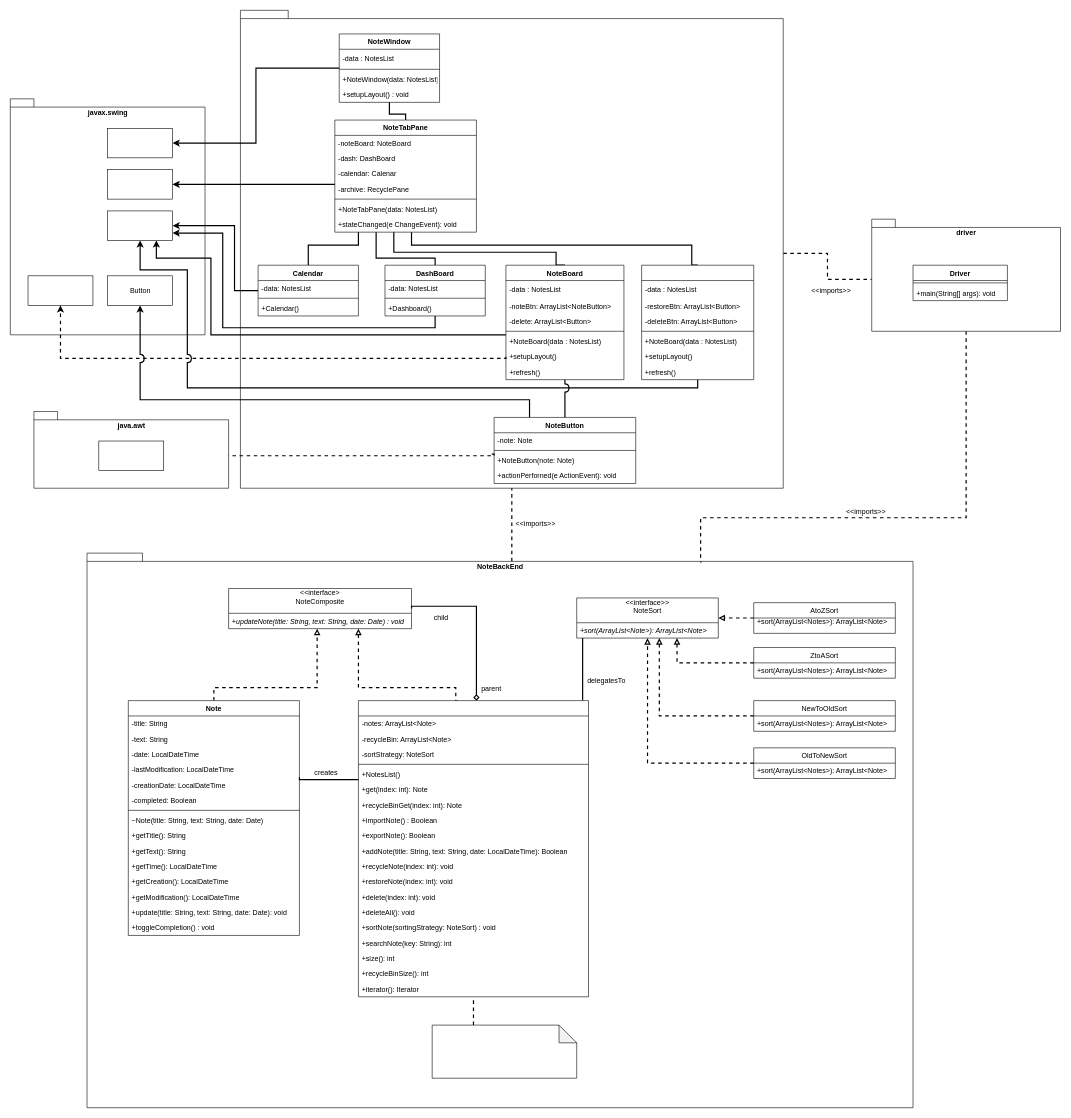
Some shapes in this 1071 by 1118 pixel diagram are drawn without their labels. Each missing label, with the box of its shape:
ActionListener: (98, 440, 164, 471)
ChangeListener: (27, 275, 93, 305)
Delegates interface methods to children addNote() calls the Note constructor: (432, 1025, 577, 1078)
Jframe: (107, 128, 173, 158)
JPanel: (107, 210, 173, 240)
JTabbedPane: (107, 169, 173, 199)
NoteFronttEnd: (240, 10, 783, 488)
NoteList: (358, 700, 589, 997)
RecyclePane: (641, 265, 754, 380)
